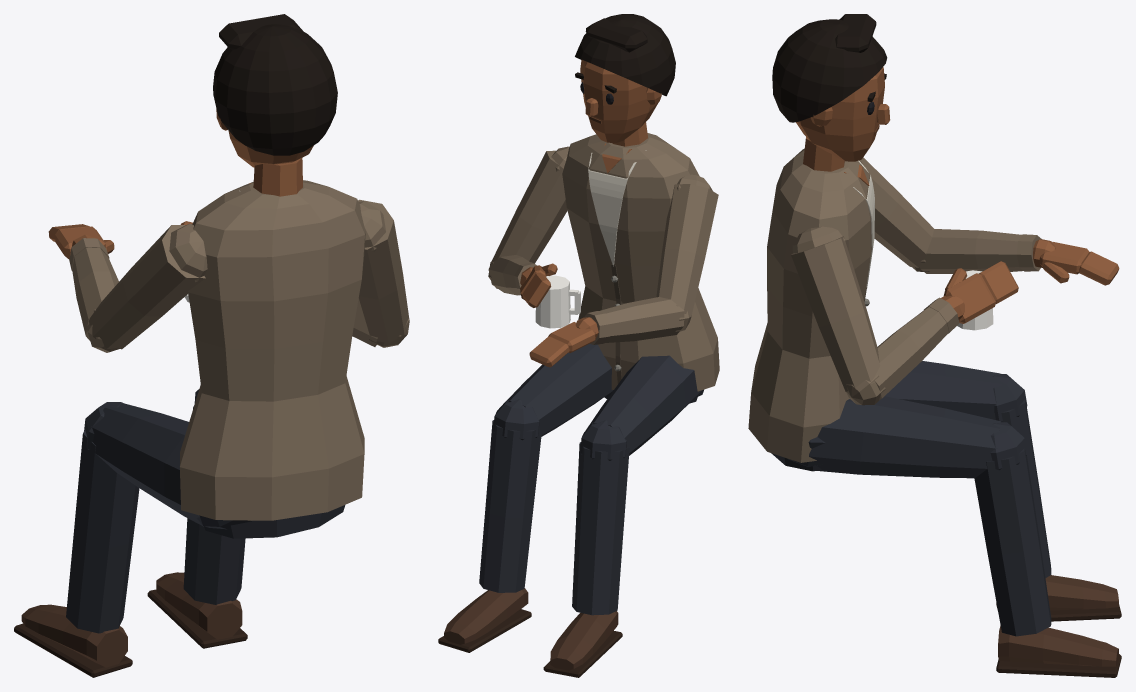
File: person_cafe_sip.glb
The picture shows the model from 3 angles, left to right: view 1: azimuth 30°, elevation 25°; view 2: azimuth 150°, elevation 25°; view 3: azimuth 270°, elevation 25°; orthographic projection. The views are drawn at different scales.
Parts seen in each view (by area): view 1: Chest, Head, Shin_L, UpperArm_L, Thigh_L, UpperArm_R, Foot_L, Shin_R, Foot_R, Forearm_L, Hips, Neck (+2 smaller); view 2: Chest, Head, Shin_L, Shin_R, Thigh_L, UpperArm_L, Thigh_R, UpperArm_R, Foot_R, Forearm_L, Foot_L, Hand_L (+3 smaller); view 3: Chest, Head, Thigh_R, Shin_R, UpperArm_R, Foot_R, Forearm_R, Forearm_L, Thigh_L, UpperArm_L, Foot_L, Hand_R (+3 smaller).
Part boxes in pixels (<box>): Chest: <box>179,180,365,520</box>; Head: <box>213,14,337,167</box>; Shin_L: <box>66,402,139,633</box>; UpperArm_L: <box>89,223,207,349</box>; Thigh_L: <box>91,403,252,529</box>; UpperArm_R: <box>356,199,409,343</box>; Foot_L: <box>14,604,132,677</box>; Shin_R: <box>183,389,245,604</box>; Foot_R: <box>147,572,247,648</box>; Forearm_L: <box>69,238,120,352</box>; Hips: <box>204,505,345,538</box>; Neck: <box>253,158,302,196</box>; Chest: <box>562,133,719,391</box>; Head: <box>575,14,675,142</box>; Shin_L: <box>572,420,629,615</box>; Shin_R: <box>479,399,541,592</box>; Thigh_L: <box>586,355,703,455</box>; UpperArm_L: <box>656,174,718,317</box>; Thigh_R: <box>499,343,613,436</box>; UpperArm_R: <box>490,146,569,263</box>; Foot_R: <box>438,588,531,652</box>; Forearm_L: <box>584,297,691,344</box>; Foot_L: <box>543,611,622,677</box>; Hand_L: <box>529,317,598,367</box>; Chest: <box>748,148,874,462</box>; Head: <box>772,14,890,161</box>; Thigh_R: <box>788,396,1001,478</box>; Shin_R: <box>974,422,1051,636</box>; UpperArm_R: <box>791,226,880,391</box>; Foot_R: <box>996,625,1121,677</box>; Forearm_R: <box>846,297,959,405</box>; Forearm_L: <box>912,229,1041,273</box>; Thigh_L: <box>885,361,1001,418</box>; UpperArm_L: <box>860,157,934,267</box>; Foot_L: <box>996,575,1121,621</box>; Hand_R: <box>941,261,1018,323</box>.
Size of the model in its own units: 0.5815 by 1.36 by 0.7387.
